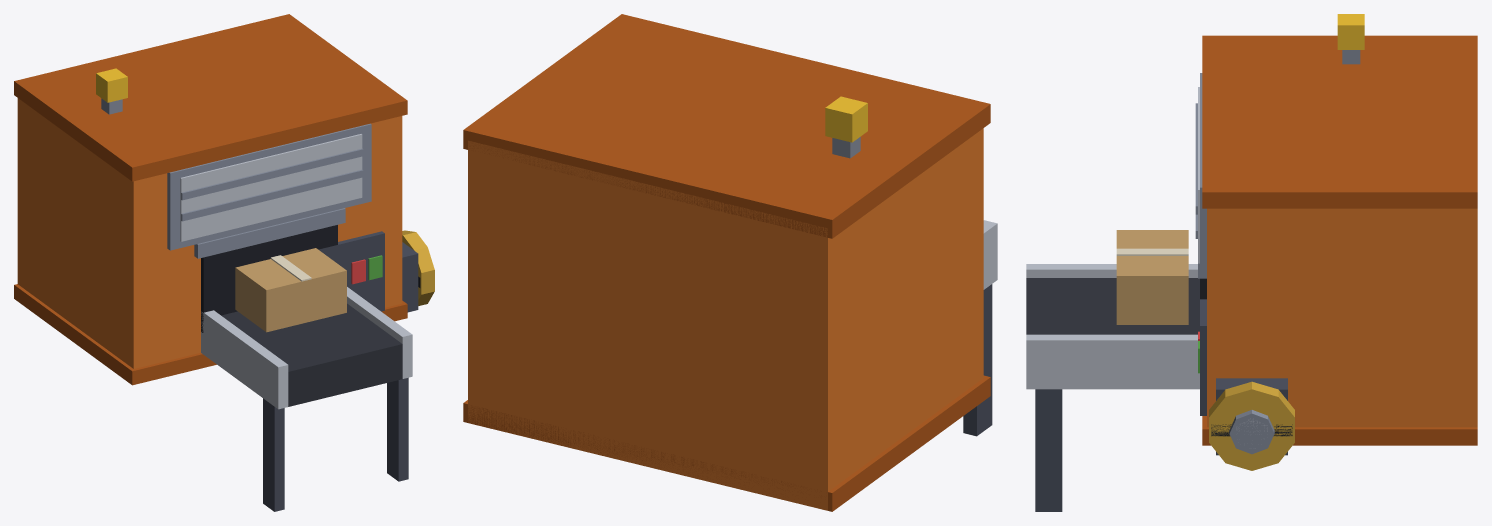
File: dock-entry.glb
3 views of the same model, side by side, from view 1: azimuth 30°, elevation 25°; view 2: azimuth 150°, elevation 25°; view 3: azimuth 270°, elevation 25° (orthographic). The views are drawn at different scales.
Visible parts, largest first — view 1: dock-entry, spin-x; view 2: dock-entry; view 3: dock-entry, spin-x.
Part boxes in pixels (left/top/right/bottom): dock-entry: left=14, top=14, right=418, bottom=511; spin-x: left=402, top=230, right=434, bottom=305; dock-entry: left=463, top=14, right=997, bottom=511; dock-entry: left=1026, top=14, right=1477, bottom=511; spin-x: left=1209, top=381, right=1294, bottom=470.
Bounding box in the file's own units: 0.93 × 0.98 × 1.
2 materials, 2 textured.
